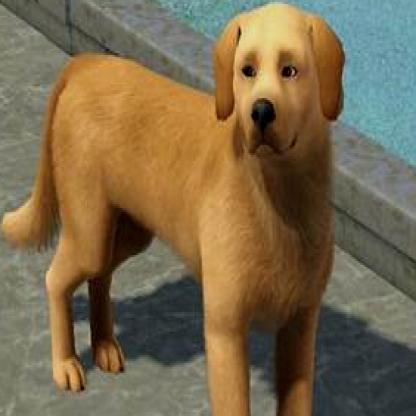dog: (0, 2, 344, 414)
